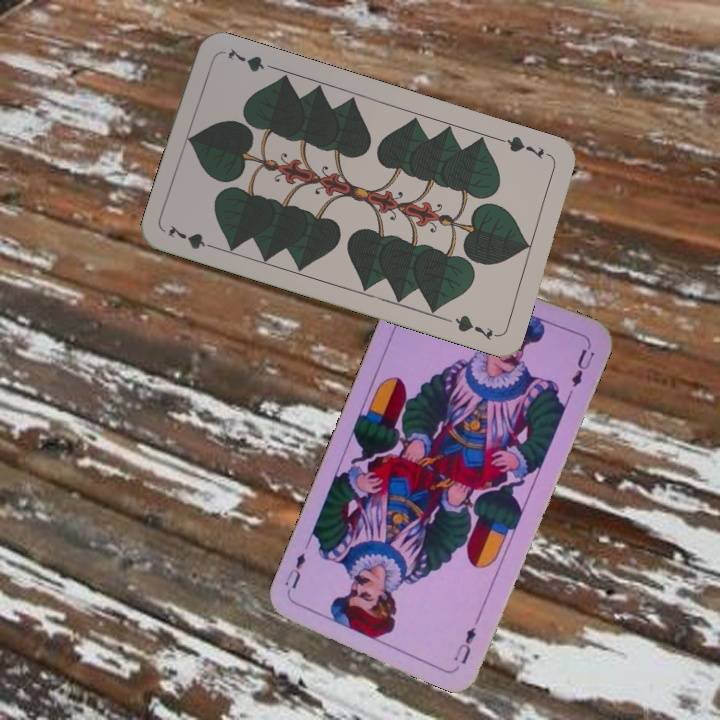EU: (450, 622, 479, 667)
G7: (163, 221, 221, 253), (496, 132, 547, 161)
